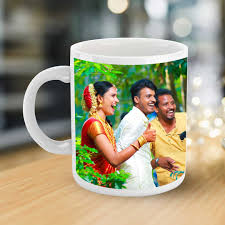mug: (14, 34, 192, 206)
